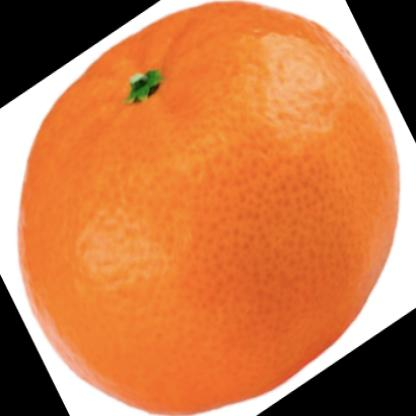fresh: (18, 2, 400, 416)
